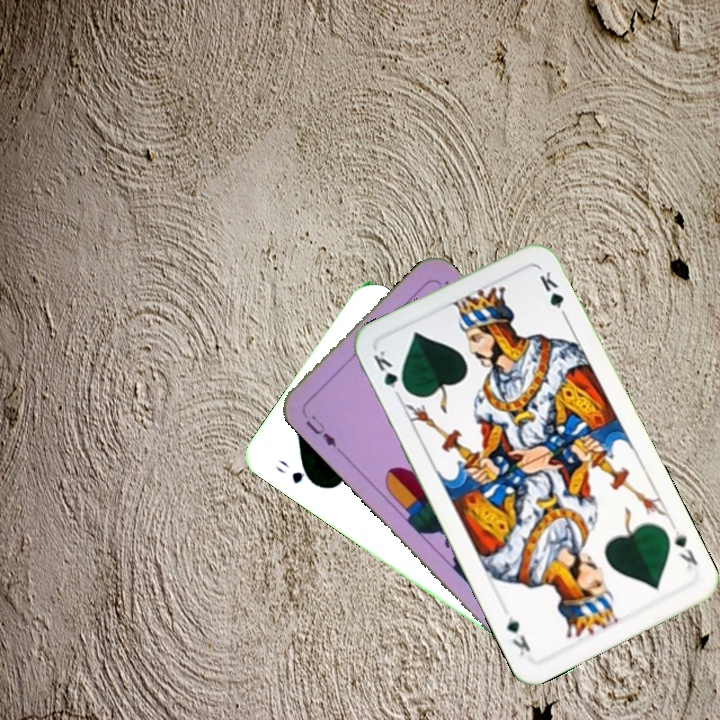EU: (297, 407, 343, 452)
GK: (369, 346, 410, 397), (670, 526, 701, 572)
GO: (271, 455, 321, 489)
